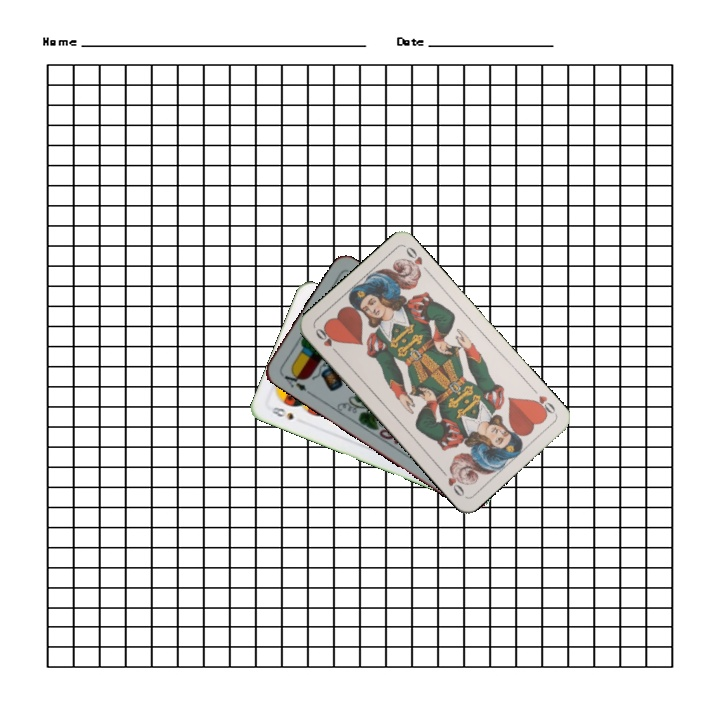EA: (280, 366, 313, 397)
HO: (527, 383, 558, 419), (311, 324, 342, 357)
S8: (264, 403, 296, 423)
